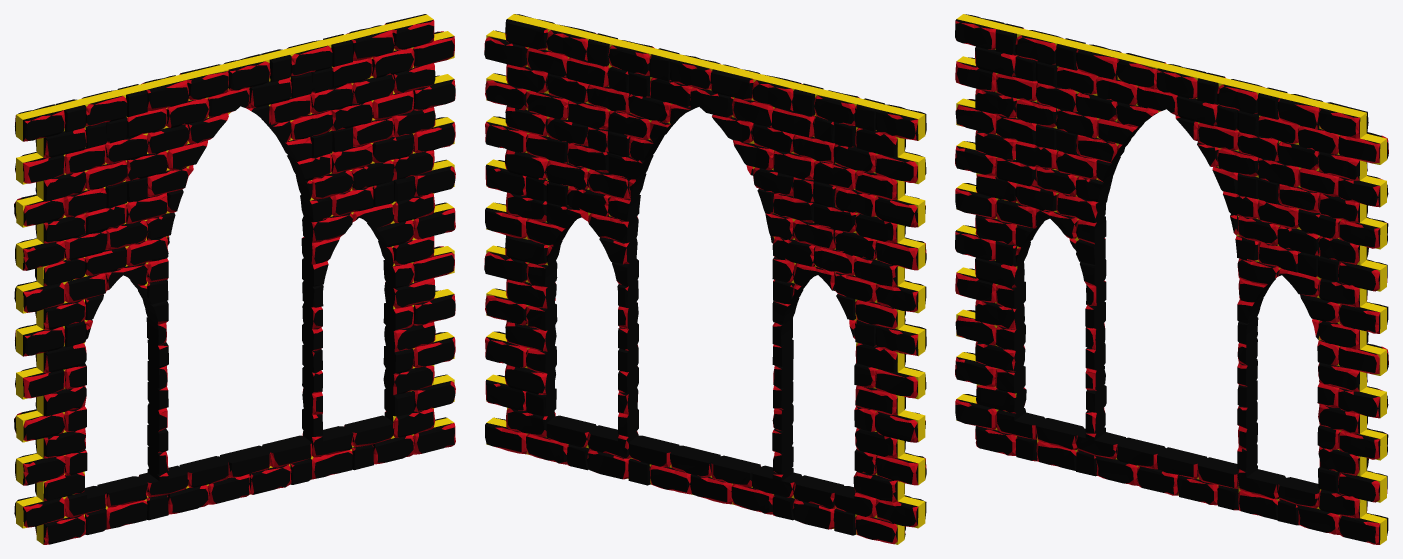
Rendered from DungeonWall_2x_Window.fbx.
3 renders of one model, left to right at view 1: azimuth 30°, elevation 25°; view 2: azimuth 150°, elevation 25°; view 3: azimuth 330°, elevation 25°, orthographic.
Parts seen in each view (by area): view 1: DungeonWall_2x_Window; view 2: DungeonWall_2x_Window; view 3: DungeonWall_2x_Window.
Part boxes in pixels (x1,y1,x2,y2): DungeonWall_2x_Window: [14, 14, 455, 544]; DungeonWall_2x_Window: [484, 14, 926, 544]; DungeonWall_2x_Window: [955, 14, 1388, 544].
Size of the model in its own units: 841 by 44.5 by 801.
